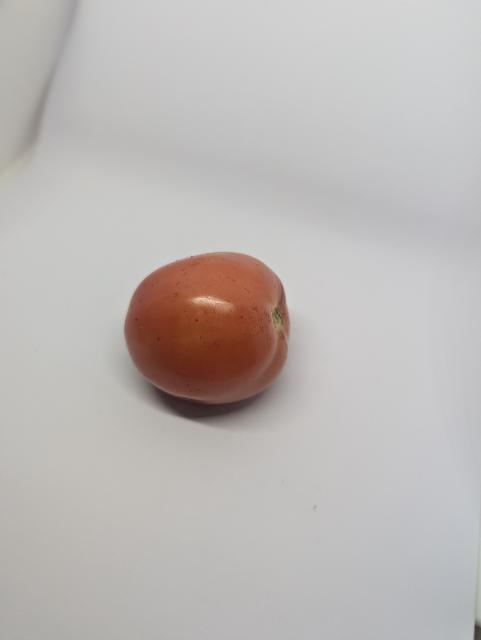red: (118, 246, 307, 424)
